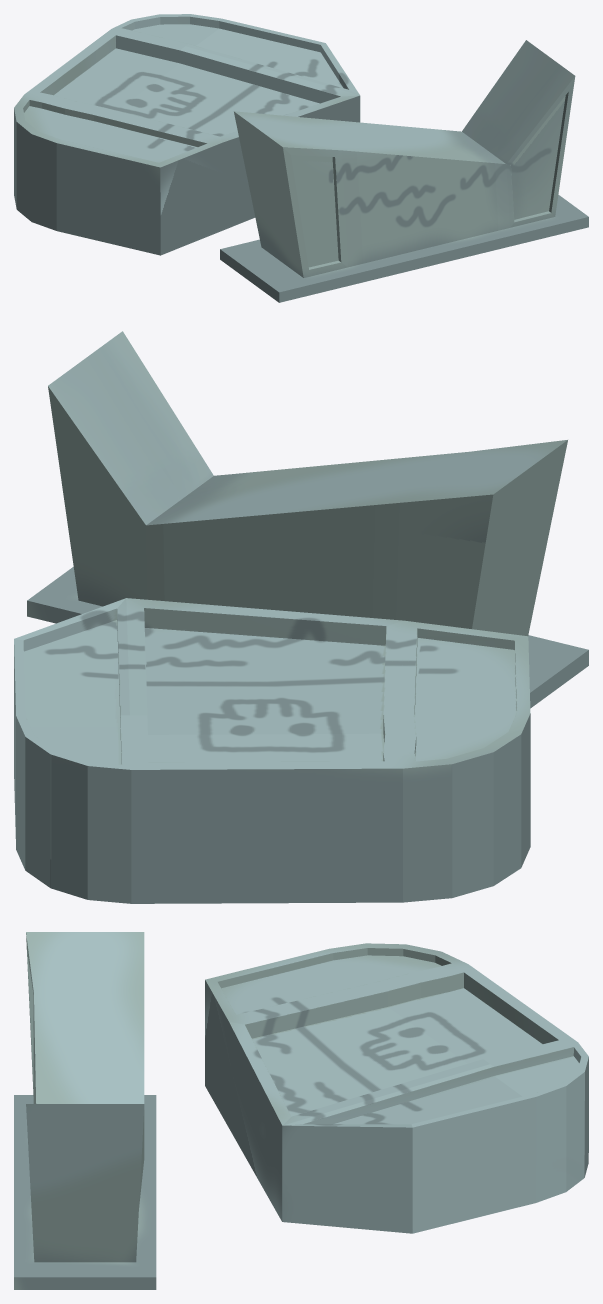
File: tumba_quebrada.fbx
3 views of the same model, one above another, from view 1: azimuth 30°, elevation 25°; view 2: azimuth 150°, elevation 25°; view 3: azimuth 270°, elevation 25° (orthographic). The views are drawn at different scales.
Parts seen in each view (by area): view 1: tumba_quebrada; view 2: tumba_quebrada; view 3: tumba_quebrada.
Part boxes in pixels (x1,y1,x2,y2): tumba_quebrada: (14,14,588,302); tumba_quebrada: (14,331,588,903); tumba_quebrada: (14,932,588,1289).
Bounding box in the file's own units: 281 × 98.86 × 282.
1 material, 1 textured.
